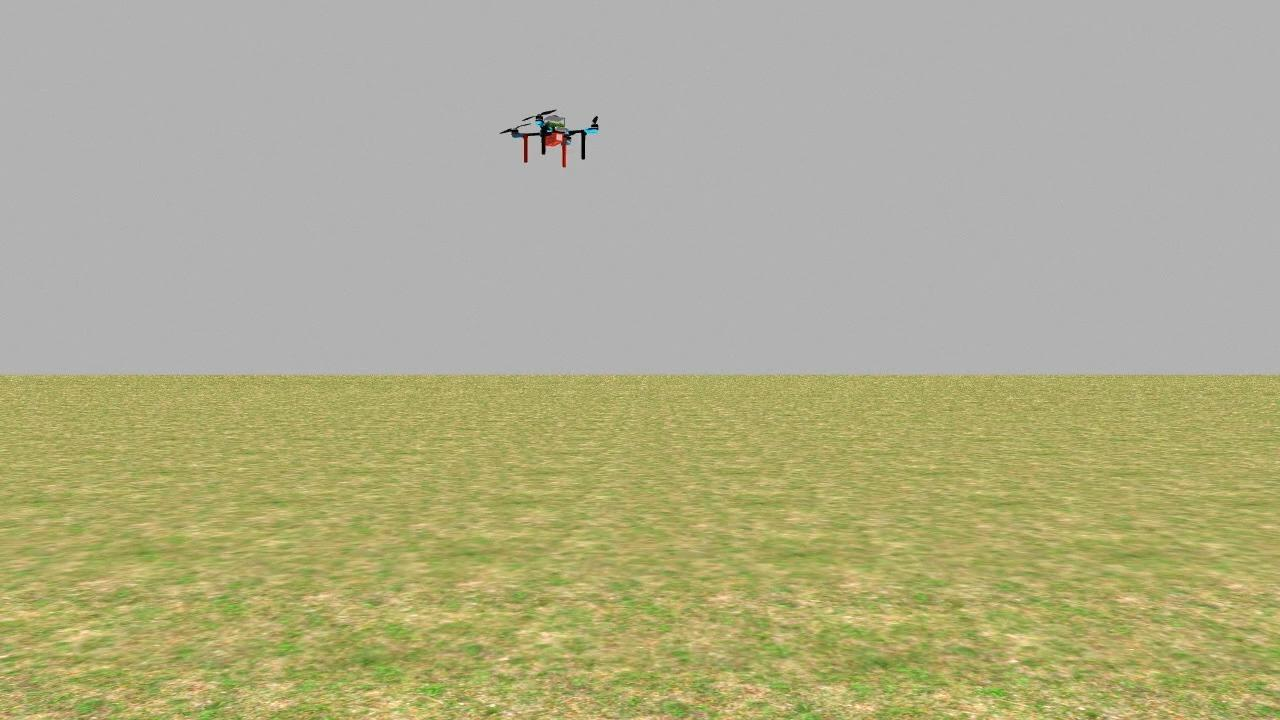UAV: (496, 79, 634, 164)
